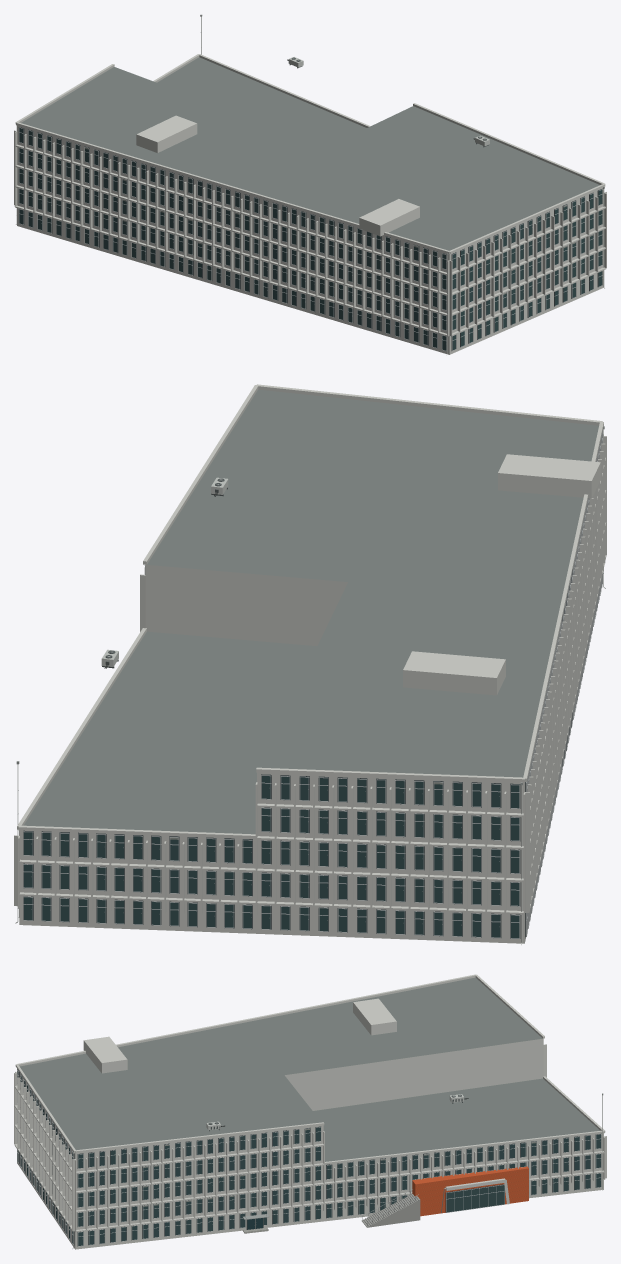
The model's file is njupt_k_dining_04.glb.
3 views of the same model, one above another, from view 1: azimuth 30°, elevation 25°; view 2: azimuth 150°, elevation 25°; view 3: azimuth 270°, elevation 25° (orthographic). The views are drawn at different scales.
Parts seen in each view (by area): view 1: Multiheight restaurant volumes | 南四食堂（K组团）, Recessed glazing portal and stair | 南四食堂（K组团）, Terraces parapets and roof plant | 南四食堂（K组团）, EXTERIOR::njupt_k_dining_04::rainwater and roof service deta; view 2: Multiheight restaurant volumes | 南四食堂（K组团）, Recessed glazing portal and stair | 南四食堂（K组团）, Terraces parapets and roof plant | 南四食堂（K组团）, EXTERIOR::njupt_k_dining_04::rainwater and roof service deta; view 3: Multiheight restaurant volumes | 南四食堂（K组团）, Recessed glazing portal and stair | 南四食堂（K组团）, Terraces parapets and roof plant | 南四食堂（K组团）, EXTERIOR::njupt_k_dining_04::inferred entry doors canopy and, EXTERIOR::njupt_k_dining_04::rainwater and roof service deta.
Boxes of the visible parts, <box> form: Multiheight restaurant volumes | 南四食堂（K组团）: <box>17,57,603,354</box>; Recessed glazing portal and stair | 南四食堂（K组团）: <box>14,127,606,351</box>; Terraces parapets and roof plant | 南四食堂（K组团）: <box>15,54,605,253</box>; EXTERIOR::njupt_k_dining_04::rainwater and roof service deta: <box>16,14,604,355</box>; Multiheight restaurant volumes | 南四食堂（K组团）: <box>19,389,598,943</box>; Recessed glazing portal and stair | 南四食堂（K组团）: <box>14,430,606,938</box>; Terraces parapets and roof plant | 南四食堂（K组团）: <box>17,384,603,839</box>; EXTERIOR::njupt_k_dining_04::rainwater and roof service deta: <box>15,426,605,945</box>; Multiheight restaurant volumes | 南四食堂（K组团）: <box>17,977,603,1249</box>; Recessed glazing portal and stair | 南四食堂（K组团）: <box>14,1044,606,1246</box>; Terraces parapets and roof plant | 南四食堂（K组团）: <box>15,974,605,1164</box>; EXTERIOR::njupt_k_dining_04::inferred entry doors canopy and: <box>243,1212,268,1233</box>; EXTERIOR::njupt_k_dining_04::rainwater and roof service deta: <box>72,1093,603,1248</box>.
Size of the model in its own units: 81.13 by 22.8 by 114.
